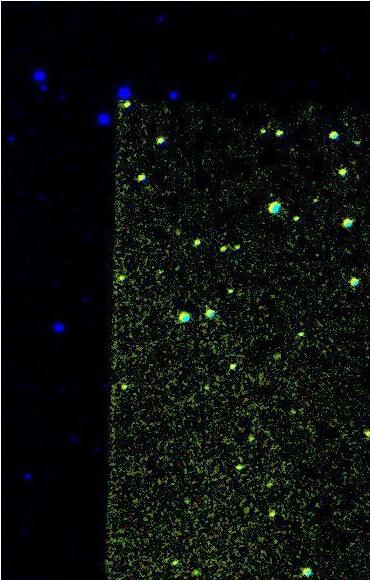star: (161, 549, 191, 579)
